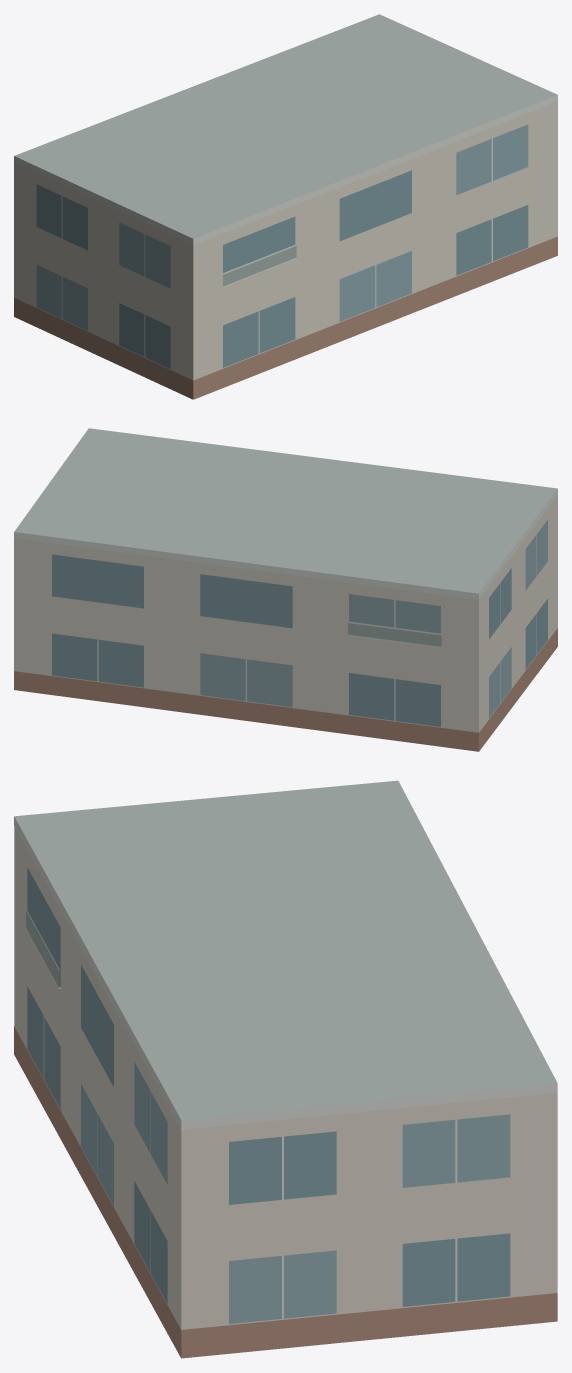
The model's file is survey-upis-32847261.glb.
The picture shows the model from 3 angles, top to bottom: view 1: azimuth 30°, elevation 25°; view 2: azimuth 150°, elevation 25°; view 3: azimuth 270°, elevation 25°; orthographic projection. The views are drawn at different scales.
Visible parts, largest first — view 1: survey-upis-32847261.tmp; view 2: survey-upis-32847261.tmp; view 3: survey-upis-32847261.tmp.
Boxes of the visible parts, x1,y1,x2,y2 form: survey-upis-32847261.tmp: (14,14,557,399); survey-upis-32847261.tmp: (14,428,557,751); survey-upis-32847261.tmp: (14,780,557,1358).
Bounding box in the file's own units: 18.68 × 6.1 × 12.63.
